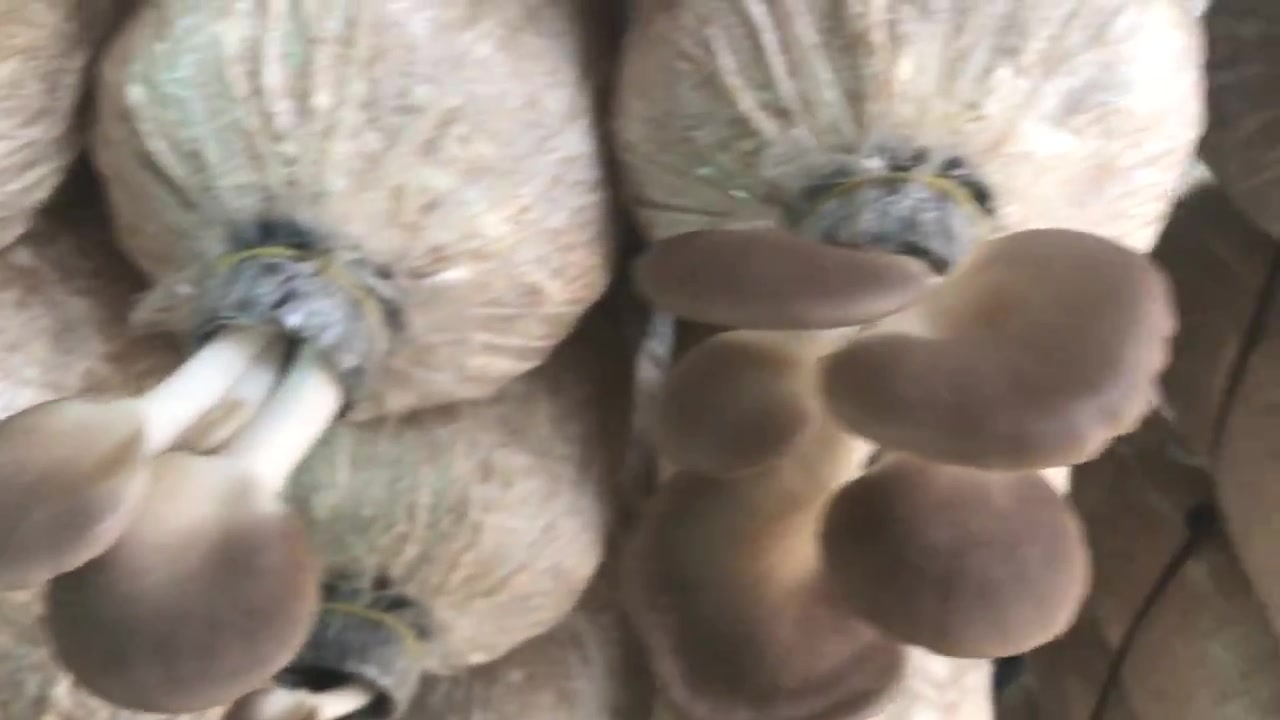nam: (630, 177, 1168, 720), (1, 251, 388, 720), (226, 598, 419, 720)
